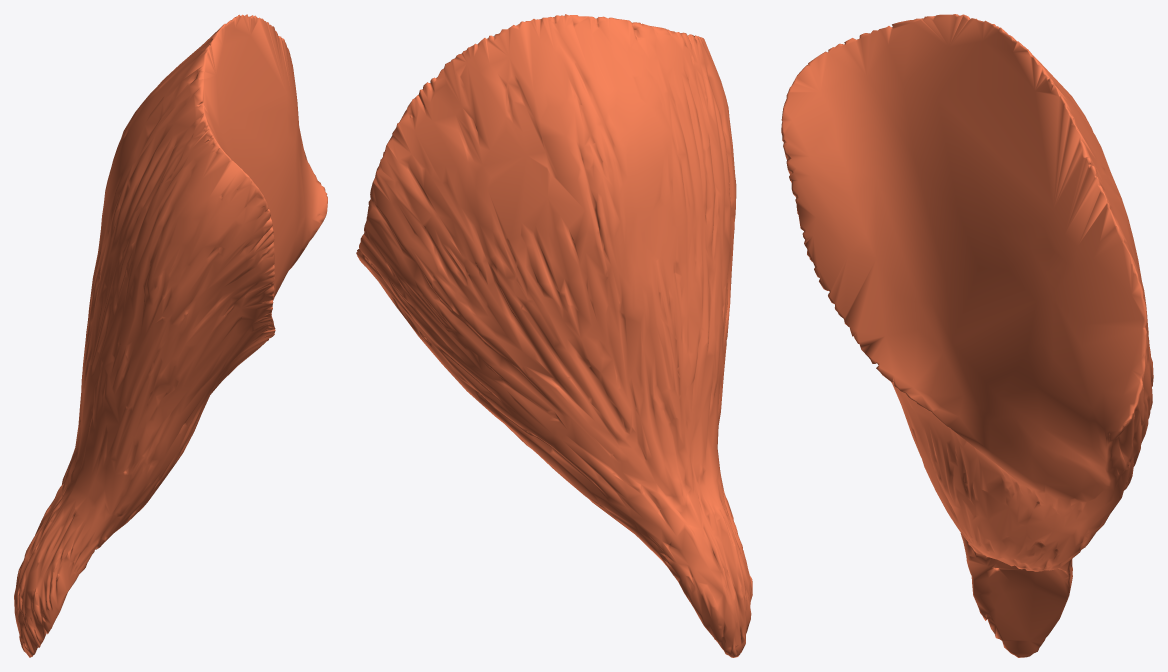
Rendered from Gluteus_minimus_muscle.r_Generated_Mesh_From_X3D.484.glb.
3 views of the same model, side by side, from view 1: azimuth 30°, elevation 25°; view 2: azimuth 150°, elevation 25°; view 3: azimuth 270°, elevation 25° (orthographic). The views are drawn at different scales.
Parts seen in each view (by area): view 1: Gluteus_minimus_muscle.r_Generated_Mesh_From_X3D.484; view 2: Gluteus_minimus_muscle.r_Generated_Mesh_From_X3D.484; view 3: Gluteus_minimus_muscle.r_Generated_Mesh_From_X3D.484.
Boxes of the visible parts, x1,y1,x2,y2 form: Gluteus_minimus_muscle.r_Generated_Mesh_From_X3D.484: [14, 14, 327, 657]; Gluteus_minimus_muscle.r_Generated_Mesh_From_X3D.484: [356, 14, 752, 657]; Gluteus_minimus_muscle.r_Generated_Mesh_From_X3D.484: [781, 14, 1153, 657].
Size of the model in its own units: 0.0829 by 0.1345 by 0.0608.
